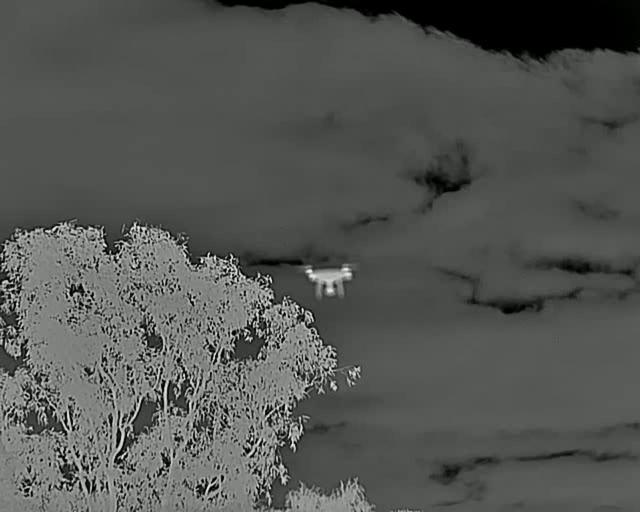DJI-Phantom: (300, 265, 355, 299)
